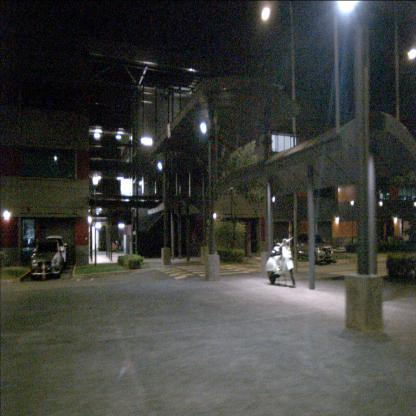cone: (40, 260, 46, 282)
